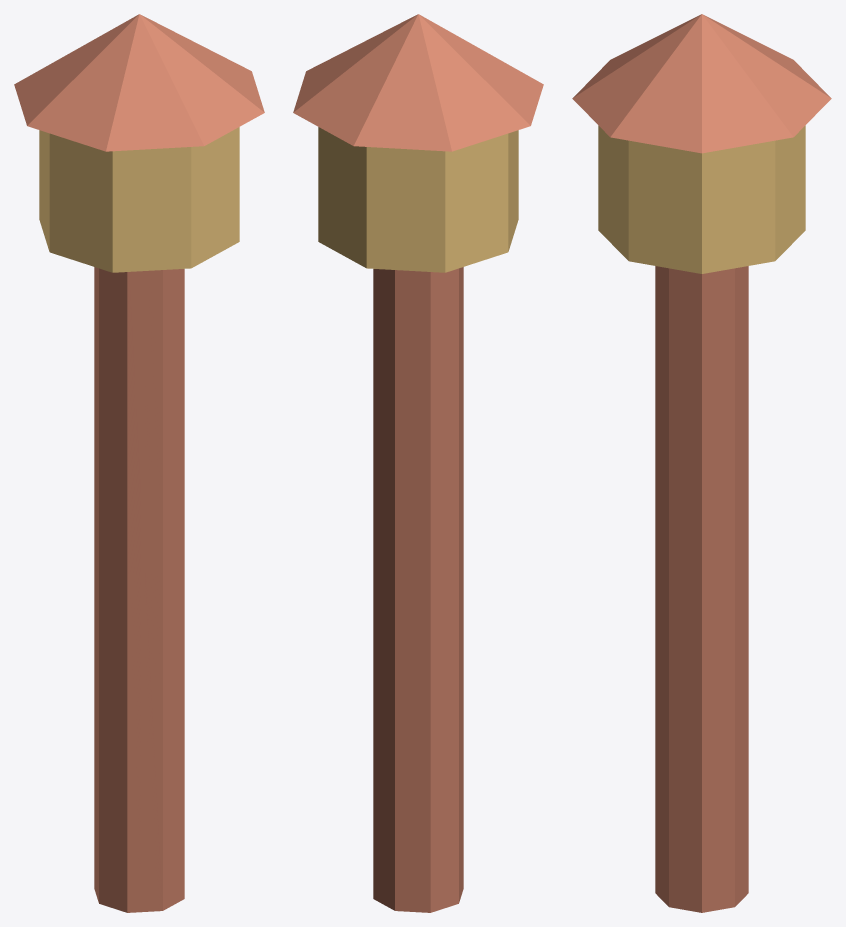
The model's file is light_marker.glb.
The picture shows the model from 3 angles, left to right: view 1: azimuth 30°, elevation 25°; view 2: azimuth 150°, elevation 25°; view 3: azimuth 270°, elevation 25°; orthographic projection.
Visible parts, largest first — view 1: post, lamp, cap; view 2: post, lamp, cap; view 3: post, lamp, cap.
Boxes of the visible parts, box(x1,y1,x2,y2) form: post: box(94, 267, 184, 912); lamp: box(39, 127, 239, 272); cap: box(14, 14, 264, 151); post: box(373, 267, 463, 912); lamp: box(318, 127, 518, 272); cap: box(293, 14, 543, 151); post: box(655, 266, 748, 912); lamp: box(598, 125, 805, 273); cap: box(572, 14, 831, 153).
Bounding box in the file's own units: 0.5 × 1.87 × 0.5.
